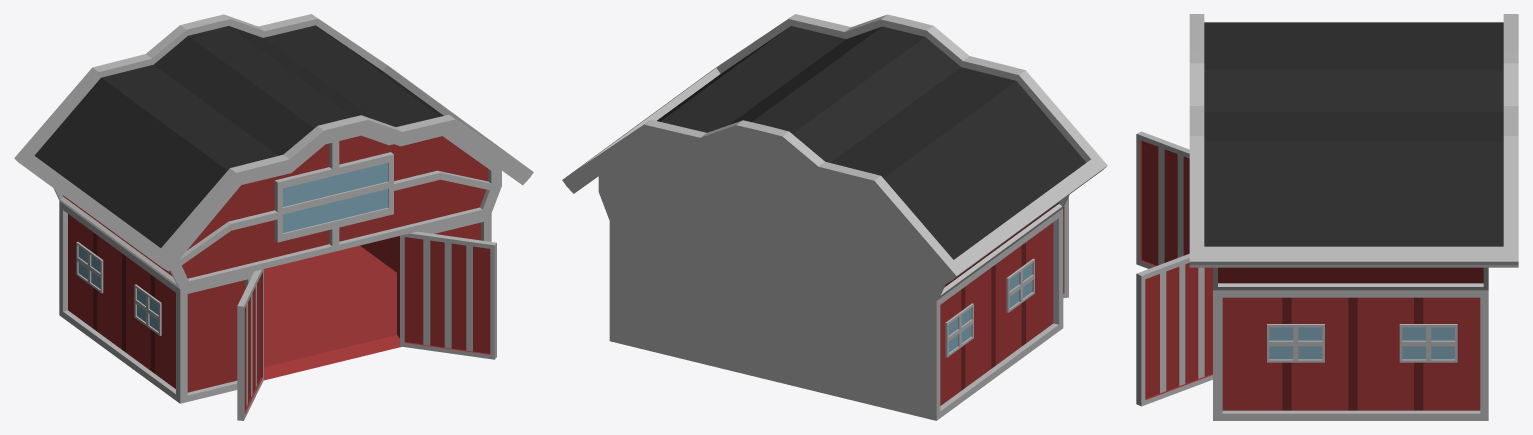
Rendered from ahır.fbx.
3 views of the same model, side by side, from view 1: azimuth 30°, elevation 25°; view 2: azimuth 150°, elevation 25°; view 3: azimuth 270°, elevation 25° (orthographic). The views are drawn at different scales.
Parts seen in each view (by area): view 1: Cube.003; view 2: Cube.003; view 3: Cube.003.
Part boxes in pixels (box(x1,y1,x2,y2)): Cube.003: box(14, 14, 533, 420); Cube.003: box(562, 14, 1107, 420); Cube.003: box(1136, 14, 1518, 420).
Bounding box in the file's own units: 1144 × 722 × 882.
